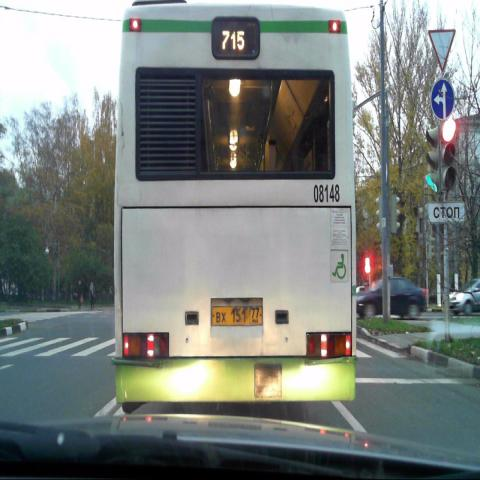4_1_5: (430, 80, 454, 119)
